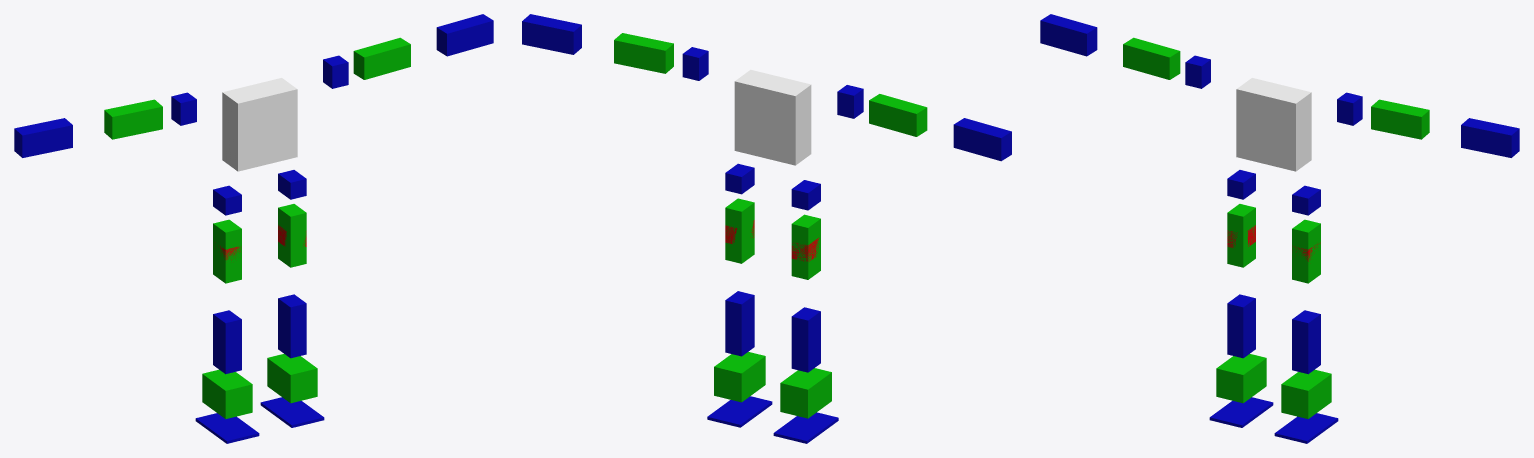
The model's file is holy.dae.
3 views of the same model, side by side, from view 1: azimuth 30°, elevation 25°; view 2: azimuth 150°, elevation 25°; view 3: azimuth 330°, elevation 25° (orthographic). The views are drawn at different scales.
Visible parts, largest first — view 1: base_link, L_foot, R_foot, L_upper_arm, L_forearm, R_forearm, R_upper_arm, R_calf, L_calf, L_upper_leg, R_upper_leg, L_foot_pad (+5 smaller); view 2: base_link, R_foot, L_foot, R_upper_arm, R_forearm, L_forearm, L_upper_arm, L_calf, R_calf, R_upper_leg, L_upper_leg, L_foot_pad (+5 smaller); view 3: base_link, R_foot, L_foot, R_upper_arm, R_forearm, L_forearm, L_upper_arm, L_calf, R_calf, R_upper_leg, L_upper_leg, R_foot_pad (+5 smaller).
Boxes of the visible parts, x1,y1,x2,y2 form: base_link: (222,78,297,171); L_foot: (202,369,252,418); R_foot: (267,354,317,403); L_upper_arm: (104,99,162,139); L_forearm: (14,118,72,157); R_forearm: (436,14,493,56); R_upper_arm: (353,37,410,79); R_calf: (278,294,306,358); L_calf: (213,310,241,374); L_upper_leg: (213,219,241,283); R_upper_leg: (278,204,306,267); L_foot_pad: (195,413,259,443); base_link: (734,69,811,165); R_foot: (714,352,765,402); L_foot: (780,368,831,418); R_upper_arm: (614,33,673,73); R_forearm: (522,14,581,54); L_forearm: (953,118,1011,161); L_upper_arm: (869,94,927,136); L_calf: (791,307,820,372); R_calf: (725,291,754,356); R_upper_leg: (725,198,754,263); L_upper_leg: (791,214,820,279); L_foot_pad: (773,412,838,443); base_link: (1236,78,1311,171); R_foot: (1281,369,1331,418); L_foot: (1216,354,1266,403); R_upper_arm: (1371,99,1429,139); R_forearm: (1461,118,1519,157); L_forearm: (1040,14,1097,56); L_upper_arm: (1123,37,1180,79); L_calf: (1227,294,1255,358); R_calf: (1292,310,1320,374); R_upper_leg: (1292,219,1320,283); L_upper_leg: (1227,204,1255,267); R_foot_pad: (1274,413,1338,443).
Size of the model in its own units: 0.4353 by 0.05 by 0.3012.
